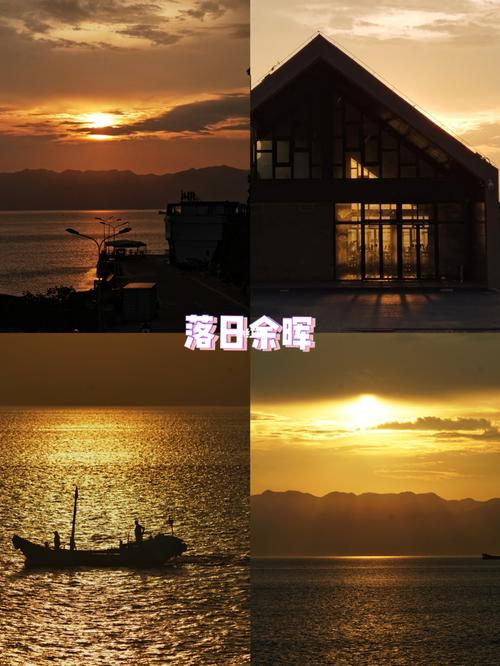buildings: (207, 39, 479, 298)
sea_river: (9, 418, 255, 565), (257, 487, 493, 553)
